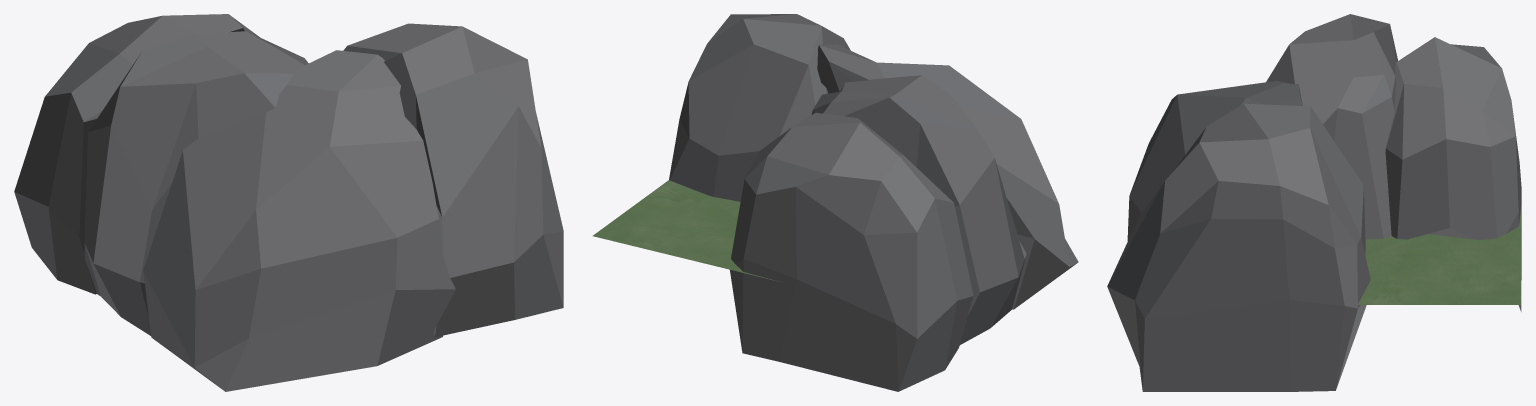
Rendered from Cliffs_Corner_West.glb.
The picture shows the model from 3 angles, left to right: view 1: azimuth 30°, elevation 25°; view 2: azimuth 150°, elevation 25°; view 3: azimuth 270°, elevation 25°; orthographic projection. The views are drawn at different scales.
Parts seen in each view (by area): view 1: Cliffs_Corner_West; view 2: Cliffs_Corner_West; view 3: Cliffs_Corner_West.
Boxes of the visible parts, box(x1,y1,x2,y2) form: Cliffs_Corner_West: box(14, 14, 563, 391); Cliffs_Corner_West: box(592, 14, 1078, 391); Cliffs_Corner_West: box(1107, 14, 1521, 391).
Bounding box in the file's own units: 1.12 × 0.7195 × 1.1.
Materials: 2 (1 with a texture image).
